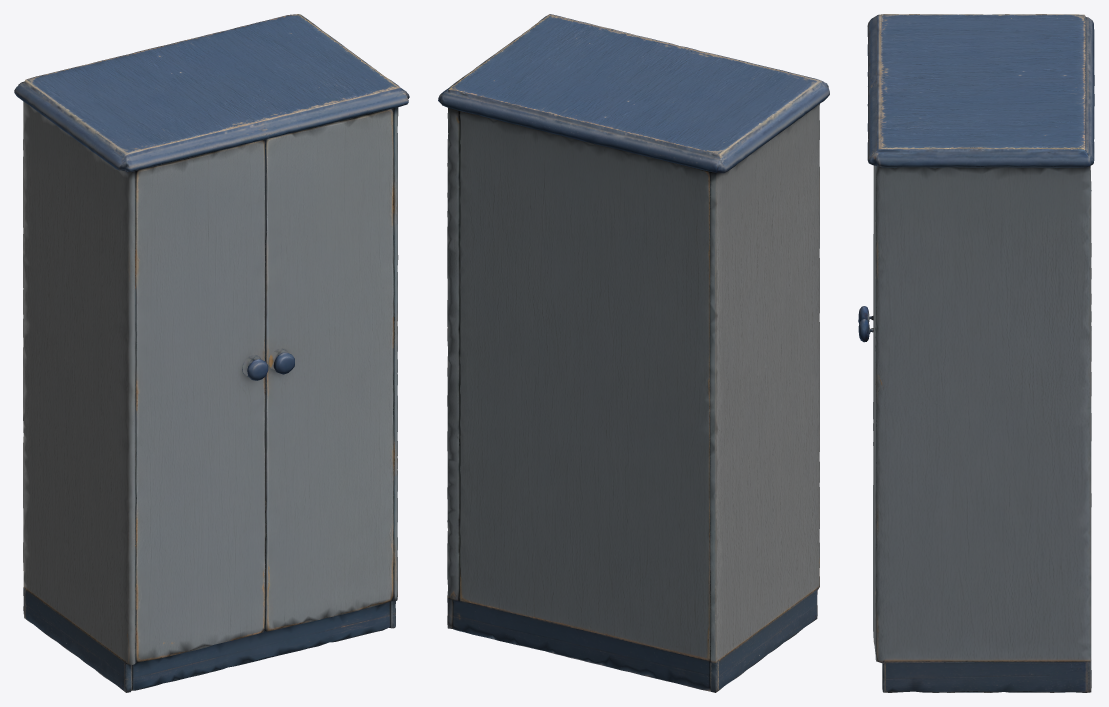
File: VAR_Bedroom_Wardrobe.fbx
3 views of the same model, side by side, from view 1: azimuth 30°, elevation 25°; view 2: azimuth 150°, elevation 25°; view 3: azimuth 270°, elevation 25° (orthographic).
Visible parts, largest first — view 1: texture_mapping; view 2: texture_mapping; view 3: texture_mapping.
Part boxes in pixels (<box>): texture_mapping: <box>14,14,409,692</box>; texture_mapping: <box>438,14,829,692</box>; texture_mapping: <box>858,14,1094,692</box>.
Bounding box in the file's own units: 0.5589 × 0.3894 × 0.9931.
Materials: 1 (1 with a texture image).
